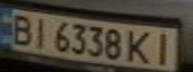3: (66, 20, 87, 56), (84, 24, 106, 58)
6: (48, 19, 72, 53)
8: (103, 25, 127, 61)
B: (3, 11, 39, 46)
I: (148, 29, 178, 65), (27, 16, 54, 48)
K: (124, 28, 157, 65)
